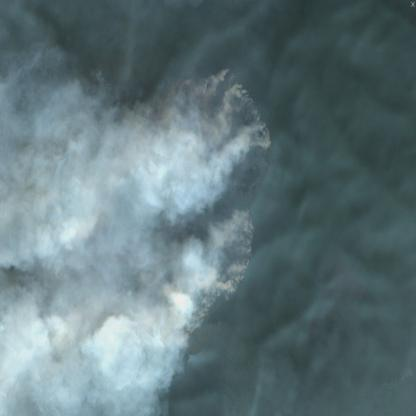fire: (49, 55, 280, 336)
